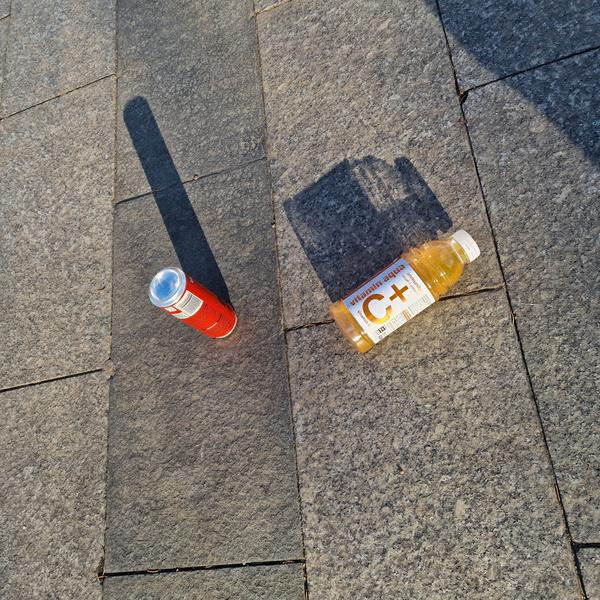can: (141, 261, 245, 348)
plastic_bottle: (325, 215, 491, 357)
